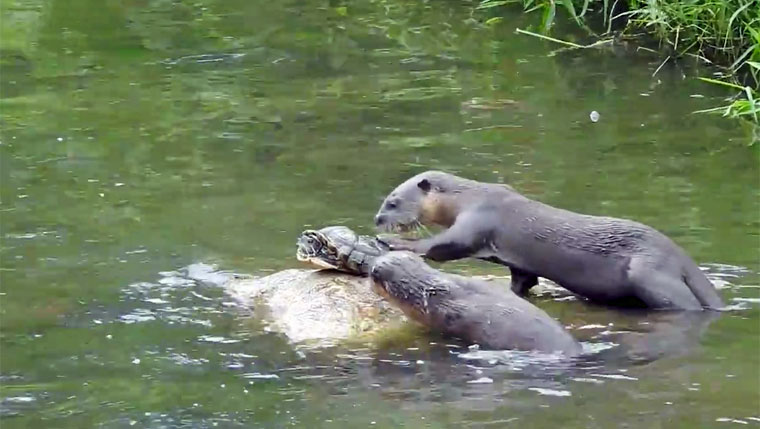otter: (366, 163, 744, 320), (356, 247, 588, 355)
